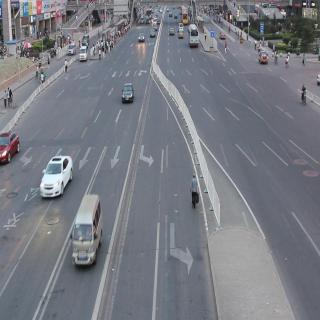BigCar: (189, 26, 200, 47)
Car: (68, 197, 106, 270), (41, 152, 69, 198), (0, 128, 21, 166), (120, 84, 138, 107), (256, 47, 270, 66), (136, 31, 147, 45), (79, 47, 88, 63), (68, 42, 76, 56), (219, 26, 227, 40), (149, 27, 157, 39), (82, 35, 89, 46)
